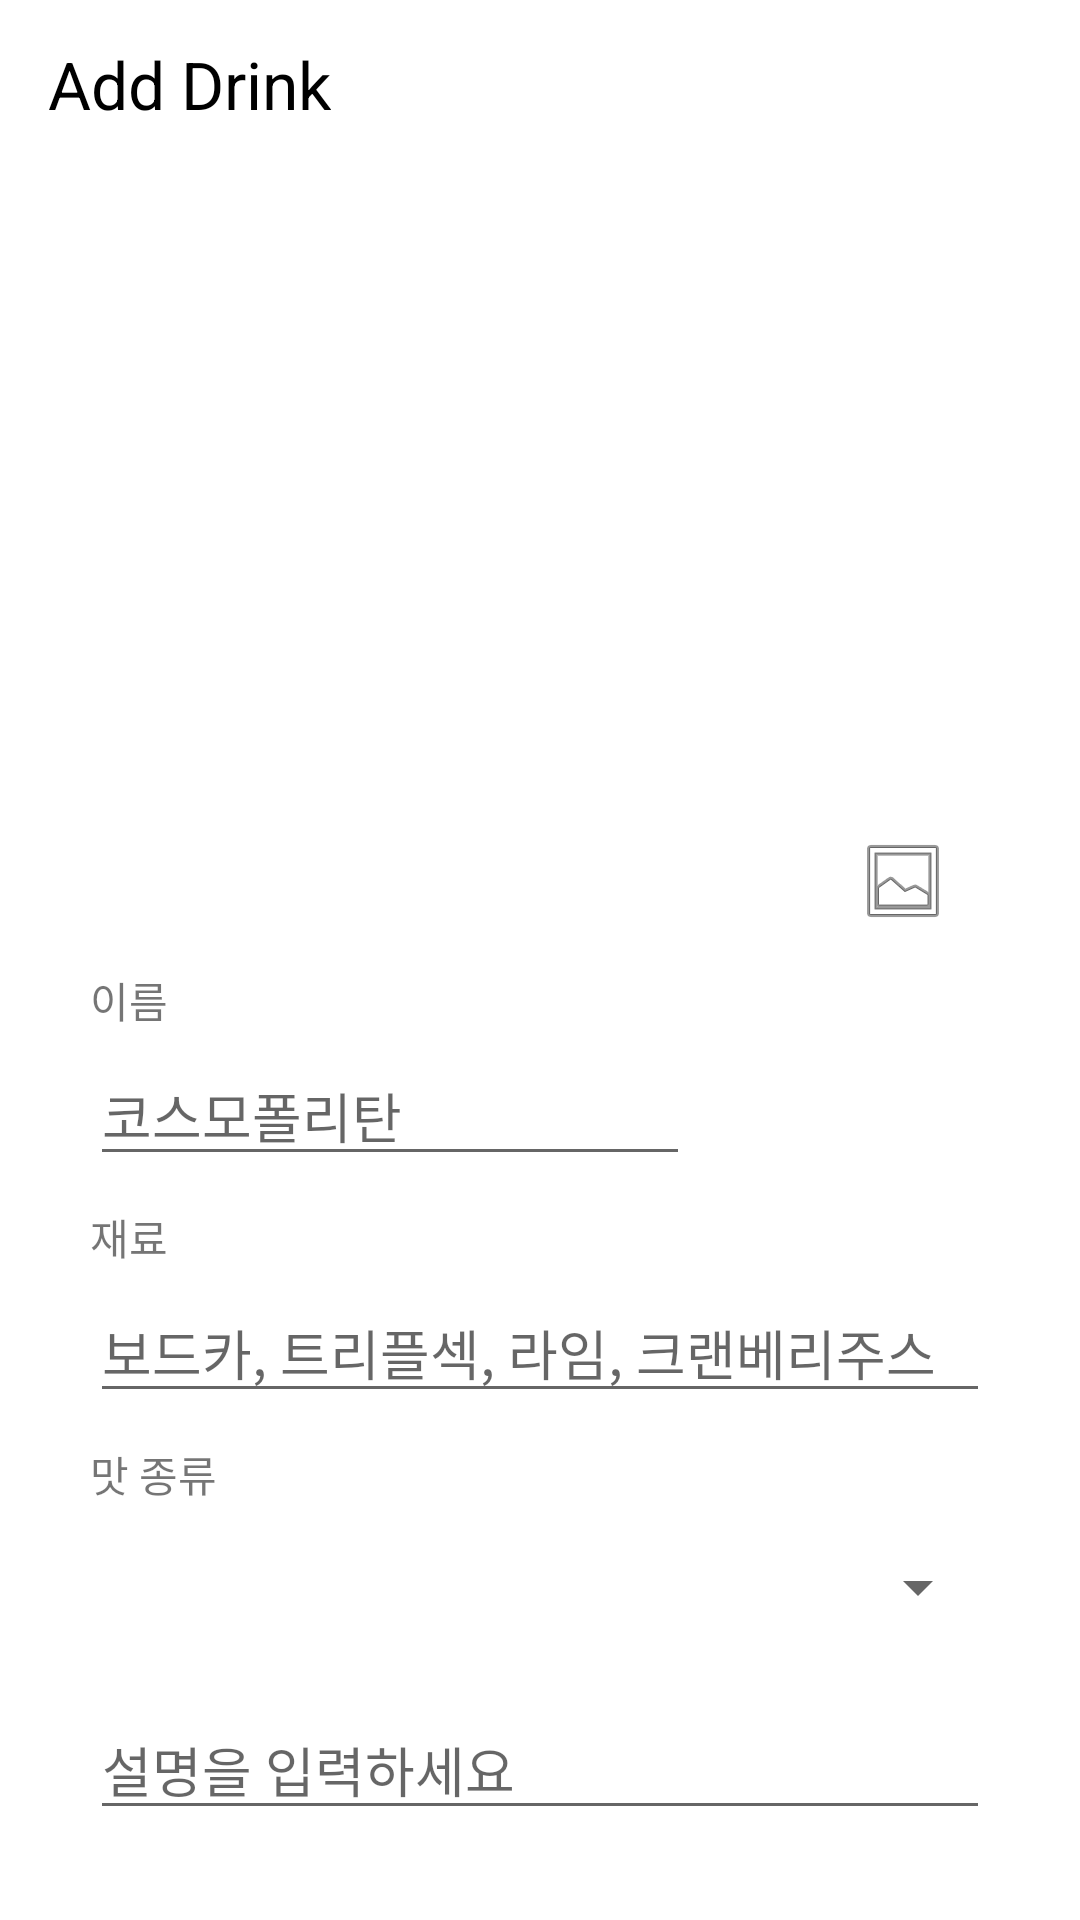

Icons on this 1080px x 1920px Android screen, each with the point to tap as (x,y):
gallery: (903,881)
